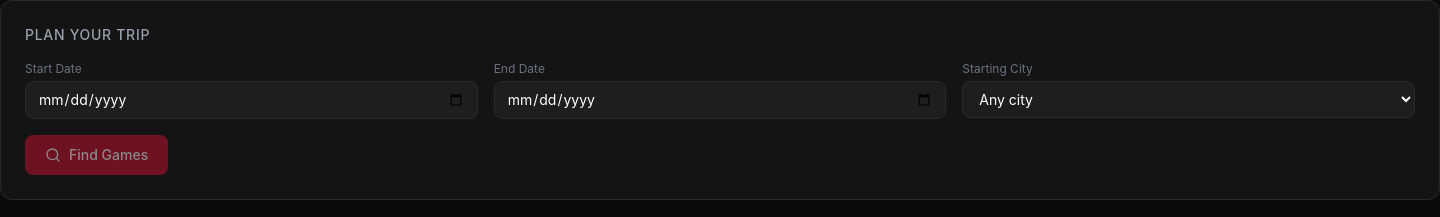
Test: TripForm — date inputs › auto-nudges end date to match start date when end date is empty
In the date field below "Start Date": (251, 100) left=25, top=81, right=478, bottom=119, type "2025-07-04"
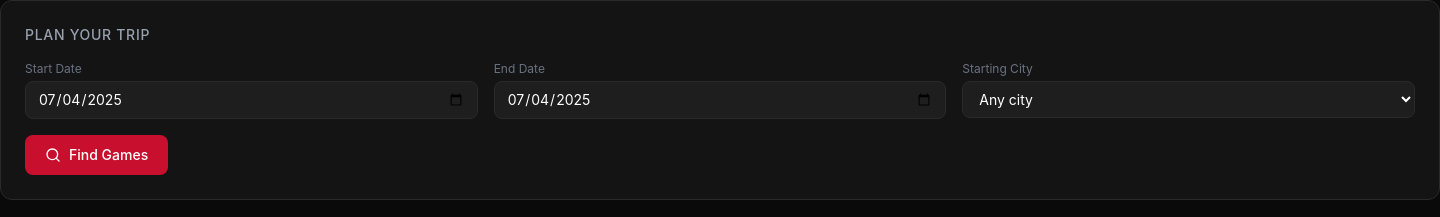
expect the date field below "End Date" holds "2025-07-04": met, box left=494, top=81, right=946, bottom=119
